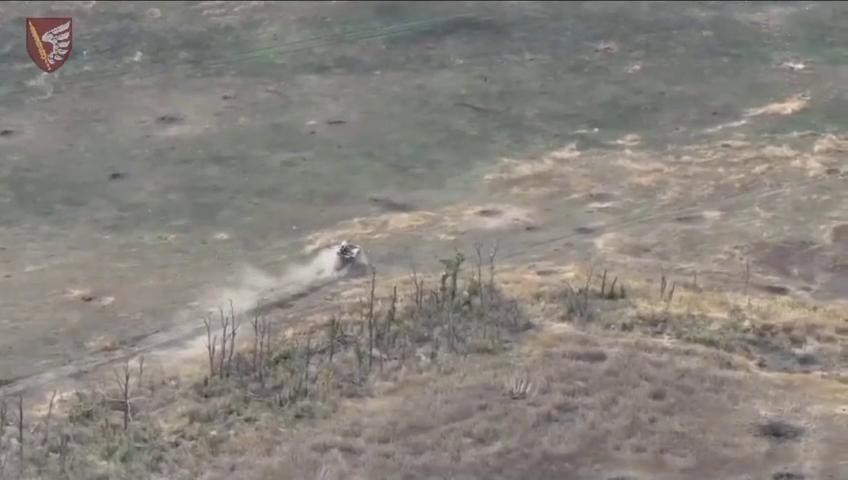tank: (331, 239, 365, 274)
